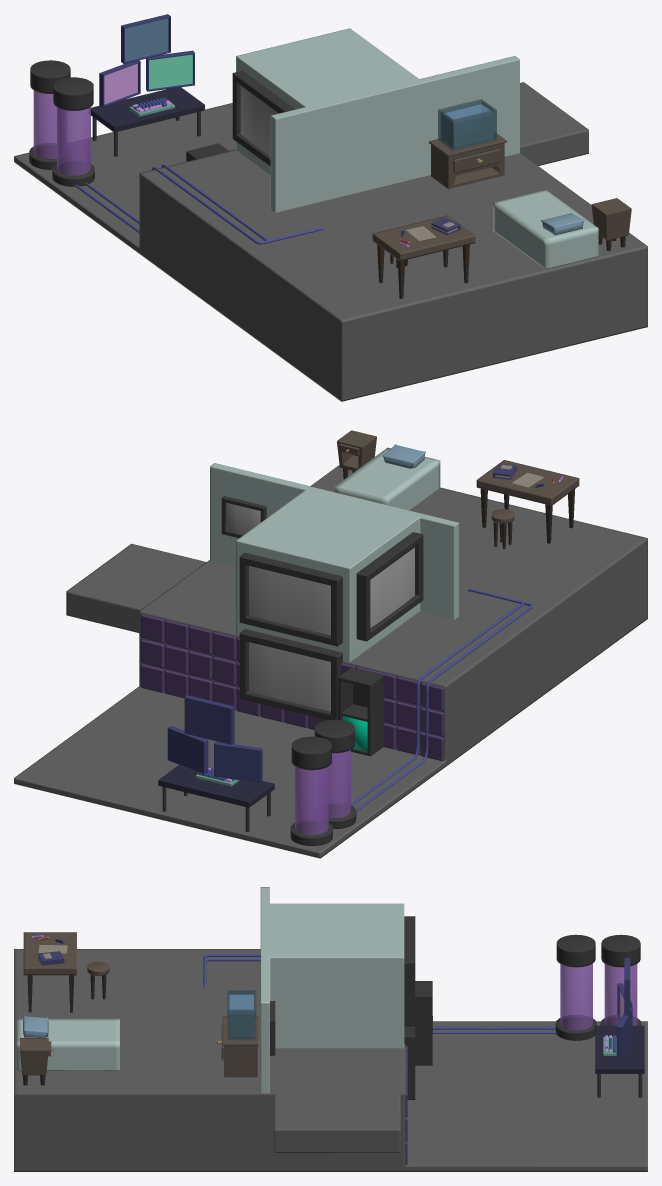
The model's file is Tutorial_Floor_Detailed_V2_Export2.fbx.
The picture shows the model from 3 angles, top to bottom: view 1: azimuth 30°, elevation 25°; view 2: azimuth 150°, elevation 25°; view 3: azimuth 270°, elevation 25°; orthographic projection. The views are drawn at different scales.
Visible parts, largest first — view 1: pCube1, pCube2, pCube3, pCube19, pCube9, pCube12, pCube5, pCylinder2, pCube10, pCube15, pCube37, pCube26 (+12 smaller); view 2: pCube1, pCube2, pCube19, pCube22, pCube23, pCube3, pCube7, pCube25, pCube26, pCube11, pCube5, pCube12 (+22 smaller); view 3: pCube1, pCube2, pCube19, pCube3, pCylinder2, pCube5, pCube12, pCube9, pCube11, pCylinder1, pCube7, pCube10 (+10 smaller).
Boxes of the visible parts, x1=… form: pCube1: x1=14, y1=103, x2=647, y2=401; pCube2: x1=236, y1=28, x2=519, y2=212; pCube3: x1=493, y1=189, x2=598, y2=269; pCube19: x1=520, y1=82, x2=588, y2=165; pCube9: x1=429, y1=132, x2=506, y2=188; pCube12: x1=91, y1=87, x2=204, y2=132; pCube5: x1=372, y1=215, x2=475, y2=261; pCylinder2: x1=57, y1=107, x2=90, y2=175; pCube10: x1=438, y1=99, x2=496, y2=151; pCube15: x1=121, y1=14, x2=170, y2=63; pCube37: x1=441, y1=104, x2=493, y2=148; pCube26: x1=232, y1=70, x2=295, y2=166; pCube1: x1=14, y1=465, x2=647, y2=858; pCube2: x1=210, y1=463, x2=458, y2=662; pCube19: x1=66, y1=543, x2=206, y2=632; pCube22: x1=249, y1=566, x2=330, y2=635; pCube23: x1=249, y1=642, x2=330, y2=711; pCube3: x1=334, y1=447, x2=440, y2=510; pCube7: x1=239, y1=552, x2=342, y2=646; pCube25: x1=239, y1=629, x2=342, y2=720; pCube26: x1=356, y1=532, x2=423, y2=641; pCube11: x1=338, y1=667, x2=384, y2=756; pCube5: x1=476, y1=460, x2=579, y2=505; pCube12: x1=158, y1=765, x2=274, y2=807; pCube1: x1=14, y1=949, x2=647, y2=1171; pCube2: x1=260, y1=887, x2=404, y2=1093; pCube19: x1=274, y1=1094, x2=400, y2=1152; pCube3: x1=17, y1=1018, x2=119, y2=1070; pCylinder2: x1=560, y1=963, x2=592, y2=1030; pCube5: x1=23, y1=932, x2=76, y2=975; pCube12: x1=595, y1=1025, x2=644, y2=1073; pCube9: x1=221, y1=1016, x2=258, y2=1077; pCube11: x1=415, y1=981, x2=432, y2=1065; pCylinder1: x1=604, y1=964, x2=637, y2=1025; pCube7: x1=404, y1=916, x2=415, y2=1026; pCube10: x1=227, y1=990, x2=256, y2=1040.
Size of the model in its own units: 27.57 by 12.04 by 40.95.
